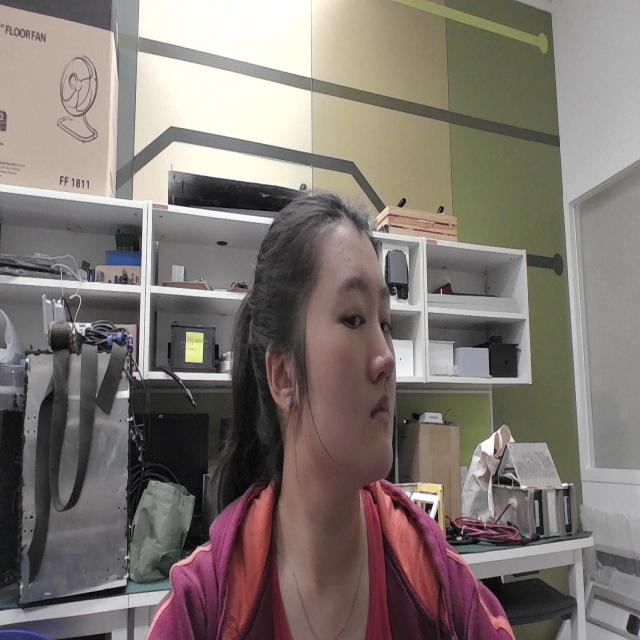Without Helmet: (205, 180, 426, 542)
